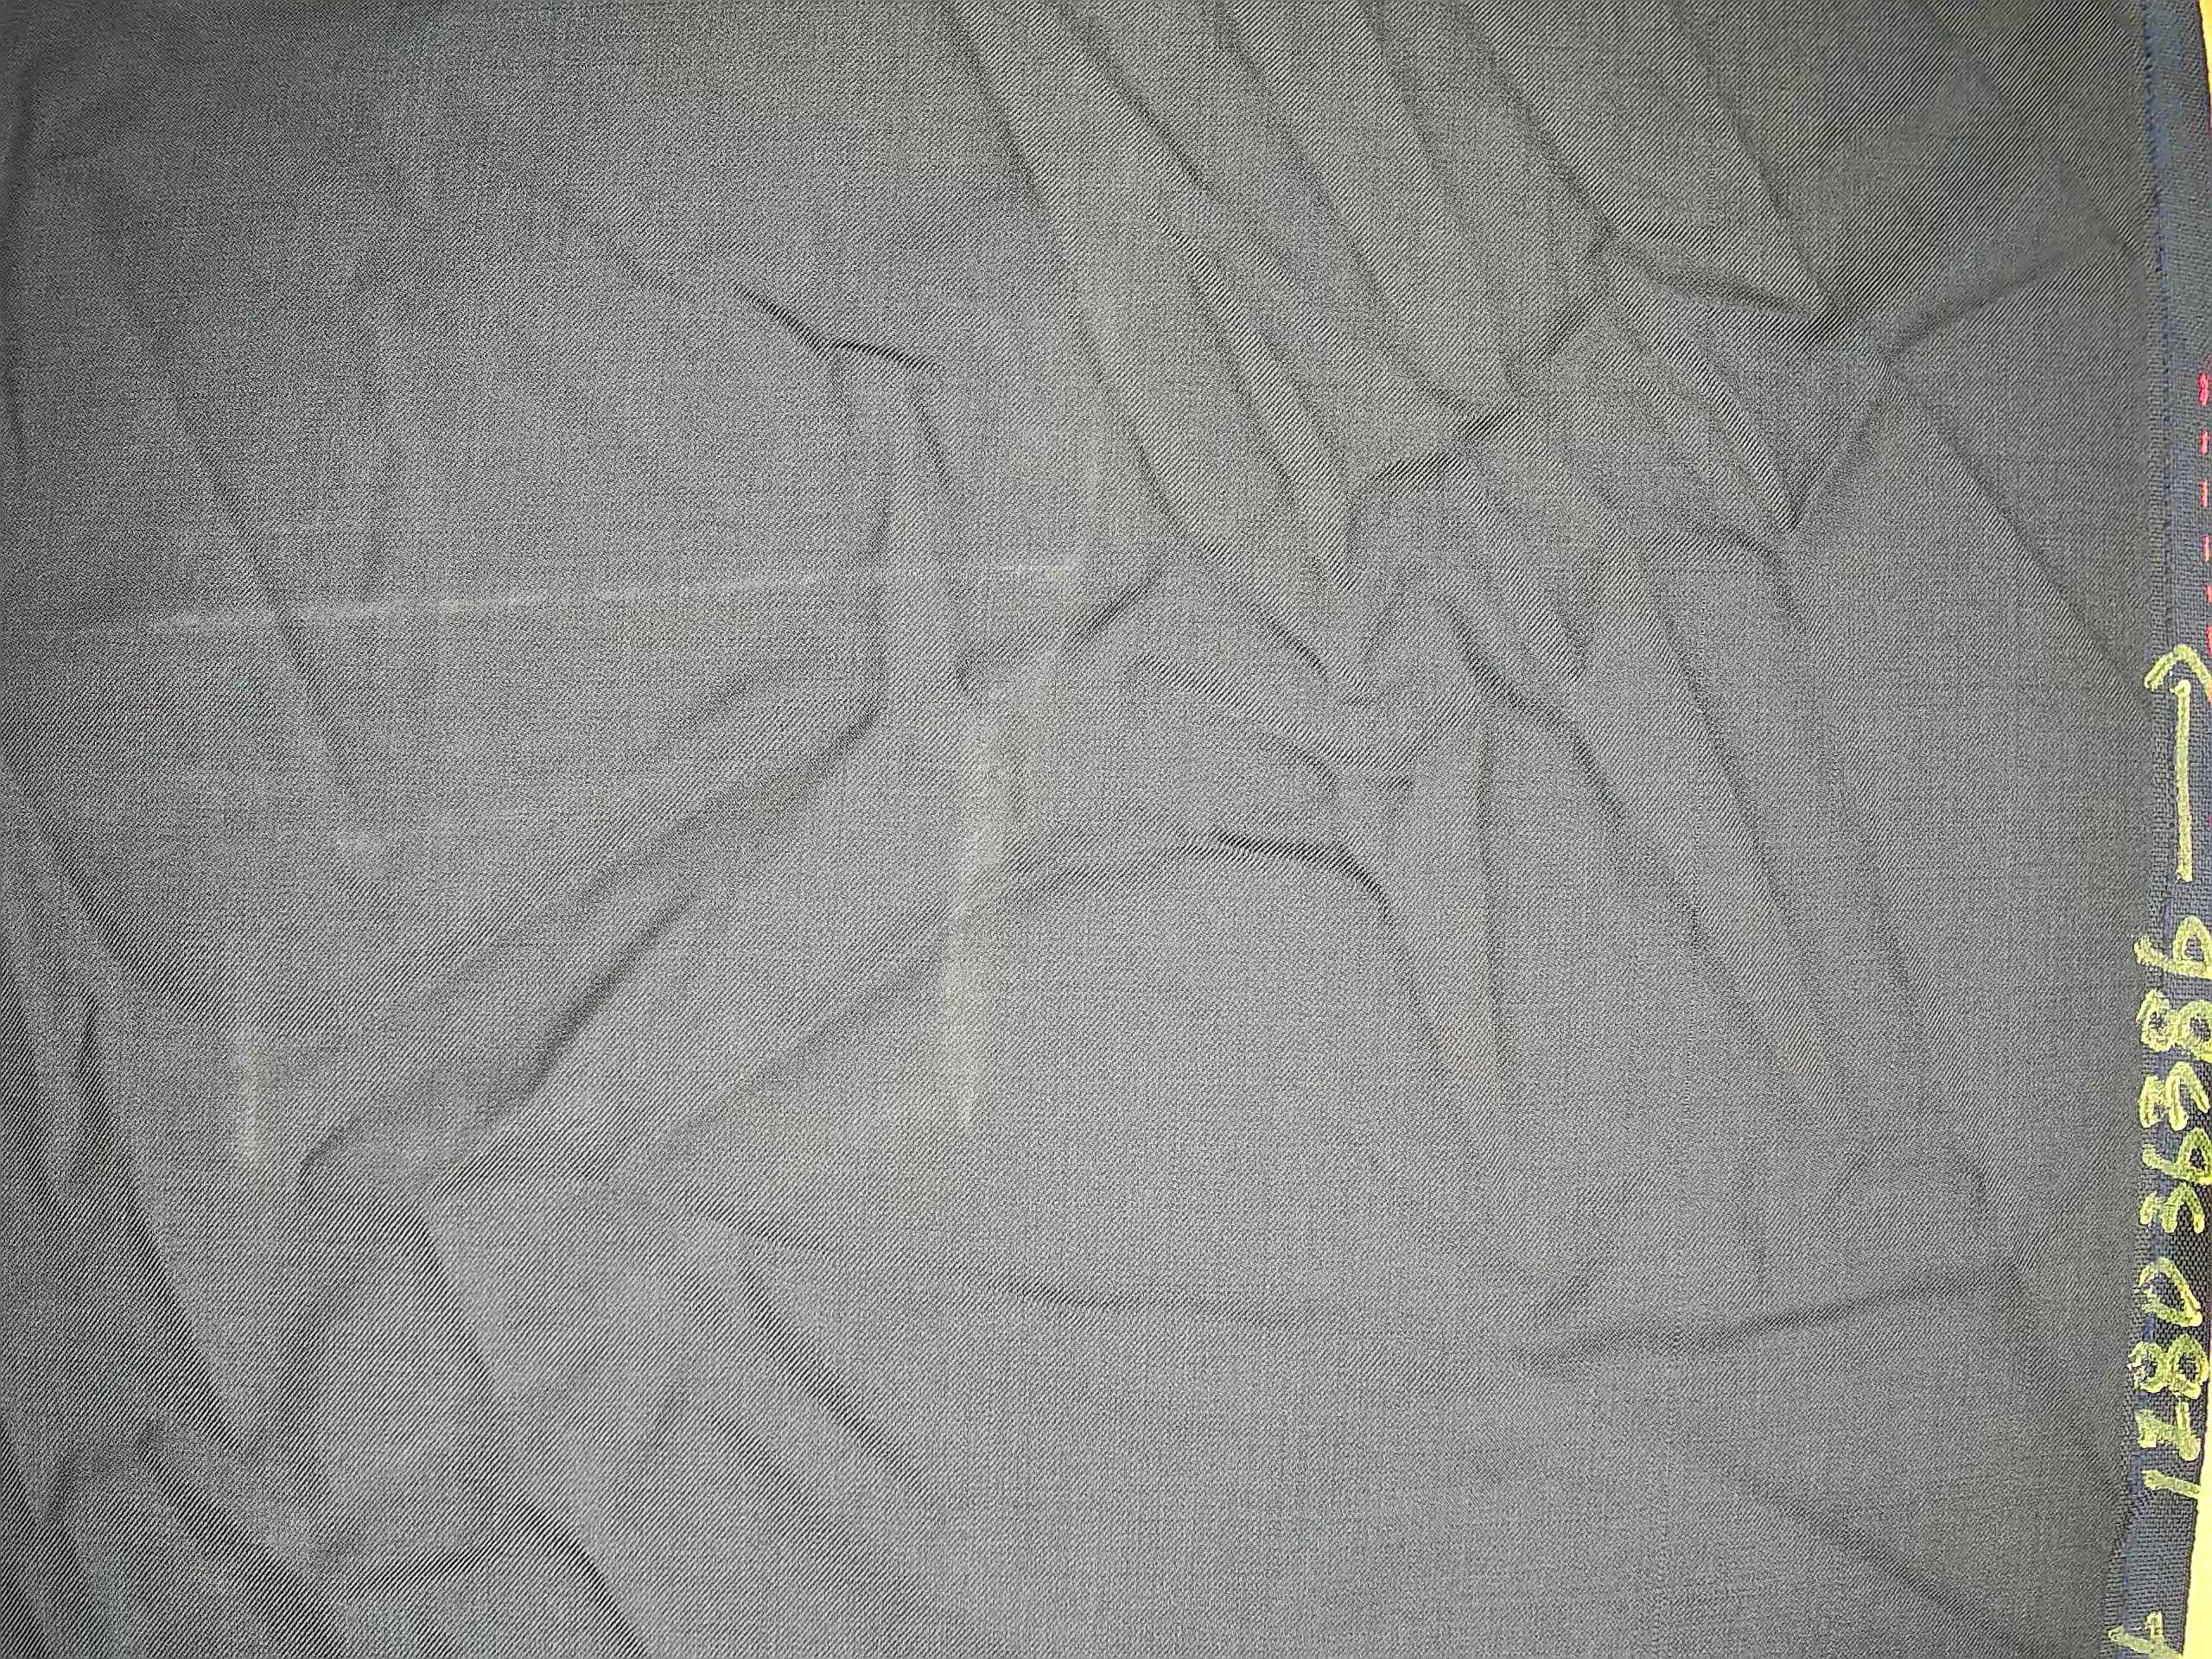lacking-warp: (965, 347, 1014, 803)
